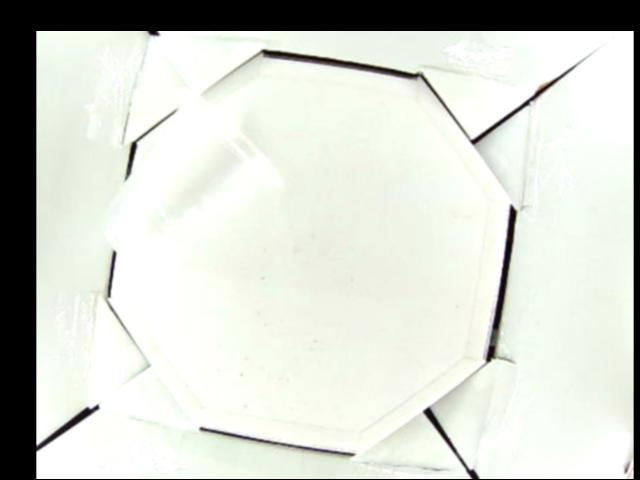Cup: (98, 87, 281, 268)
